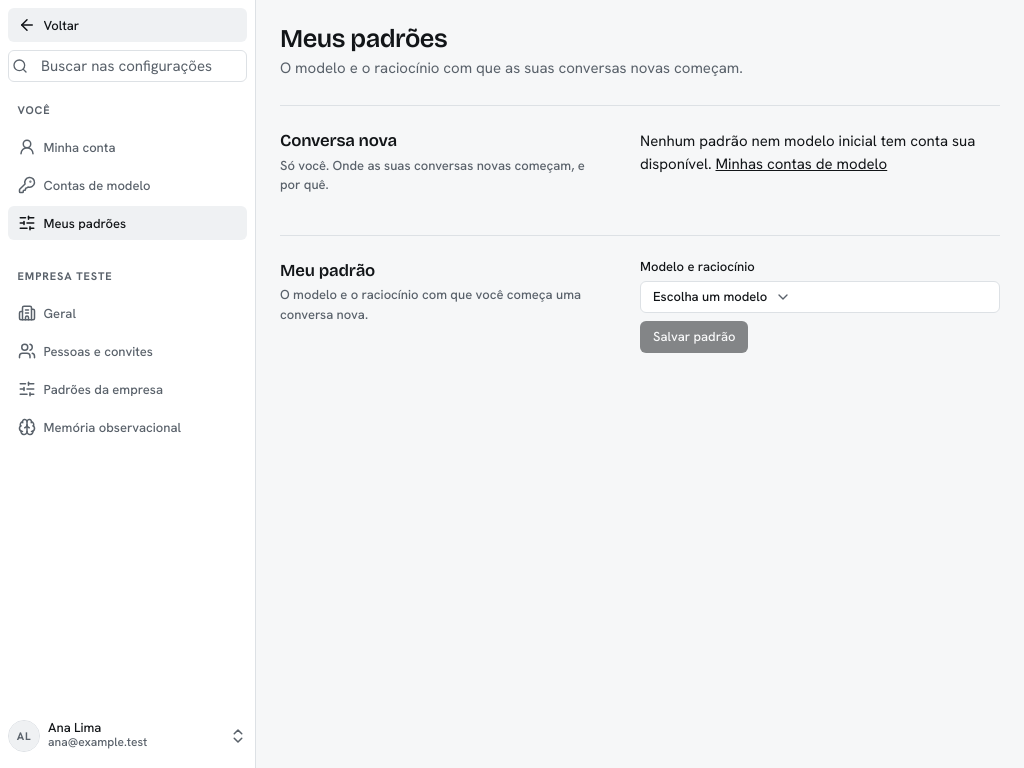
Meus padrões lista só os fornecedores de connected.mine; Padrões da empresa e a fila, só os de connected.company
Expected: the heading "Meus padrões" is shown, [280, 23, 447, 54]
Step 1. Click the dropdown named "Modelo e raciocínio" → (710, 296), box [640, 280, 1000, 312]
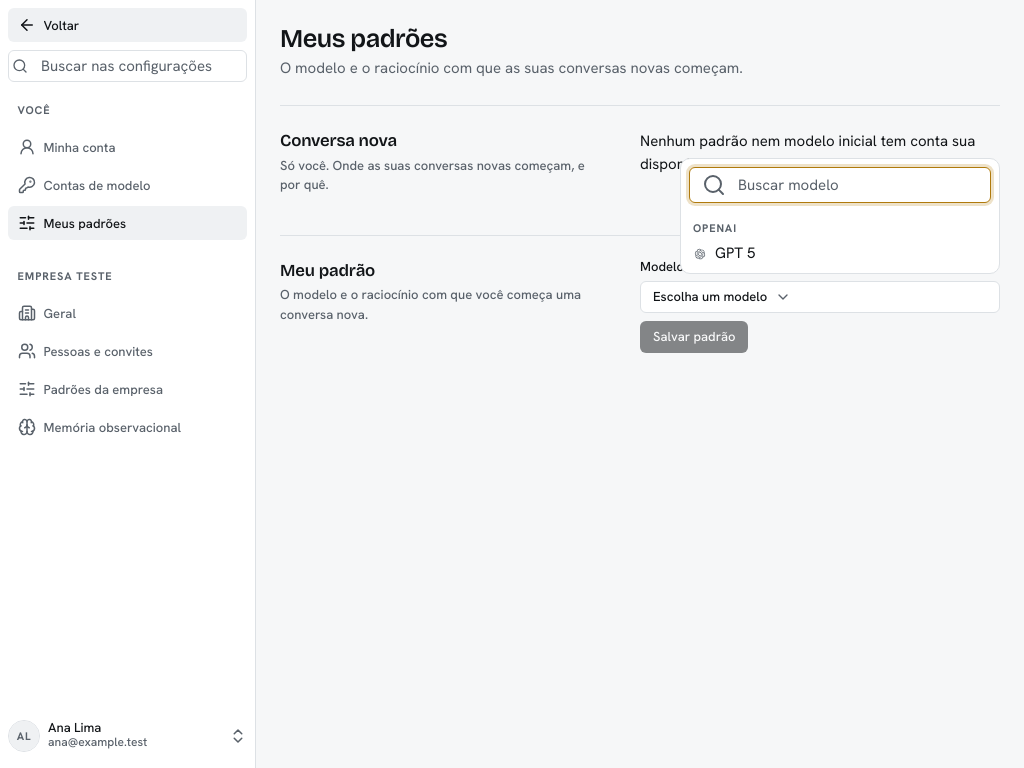
Result: the options read "GPT 5", in this order at [693, 243, 755, 263]
